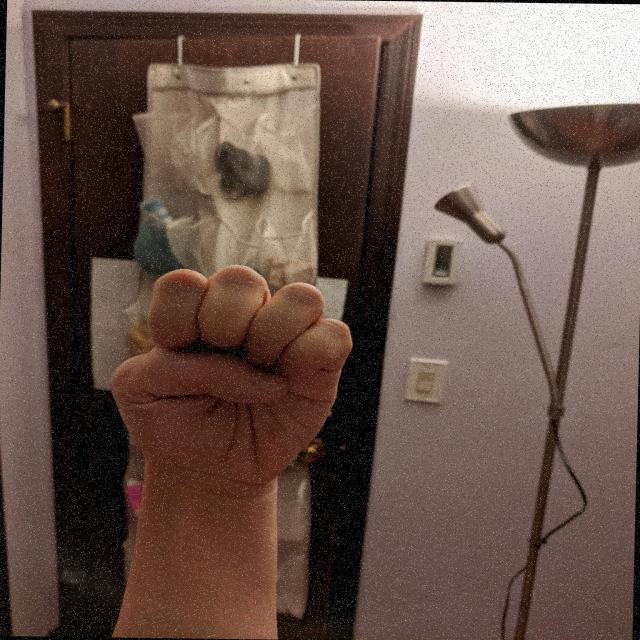E: (103, 260, 359, 491)
